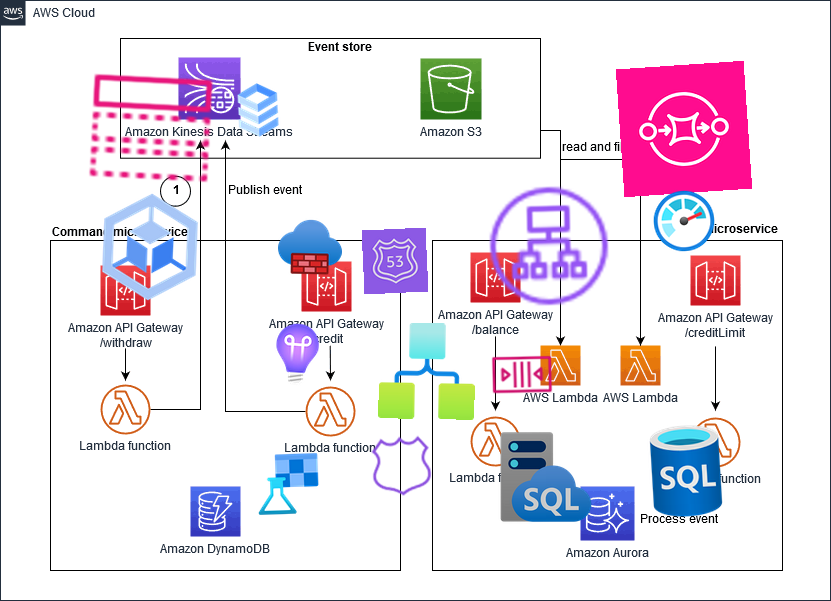aws_amazon_route_53: (361, 227, 429, 295)
aws_amazon_simple_queue_service: (615, 60, 753, 198)
aws_elastic_load_balancing_application_load_balancer: (483, 180, 615, 312)
aws_route_53_hosted_zone: (367, 431, 437, 501)
aws_simple_notification_service_topic: (83, 60, 219, 196)
aws_simple_queue_service_queue: (489, 341, 555, 407)
azure_application_insights: (262, 319, 332, 389)
azure_firewalls: (277, 214, 343, 280)
azure_logic_apps: (378, 322, 476, 420)
azure_machine_learning_studio_workspaces: (254, 450, 322, 518)
azure_monitor: (650, 187, 718, 255)
azure_sql_database: (635, 420, 737, 522)
azure_sql_managed_instance: (497, 428, 595, 526)
gcp_cloud_sql: (224, 76, 292, 144)
gcp_google_kubernetes_engine: (83, 180, 217, 314)
